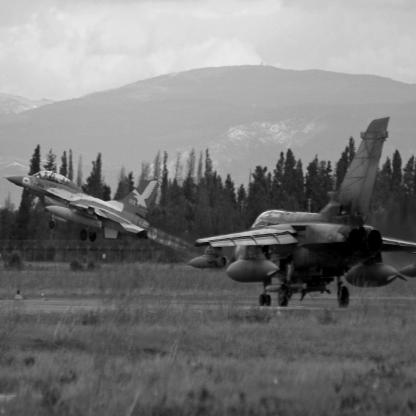F16: (2, 171, 164, 243)
Tornado: (188, 117, 416, 310)
